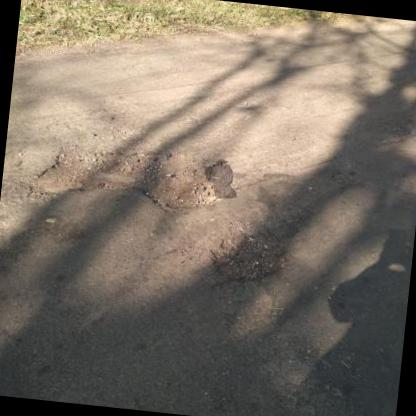pothole: (23, 134, 228, 221), (204, 222, 292, 285)
